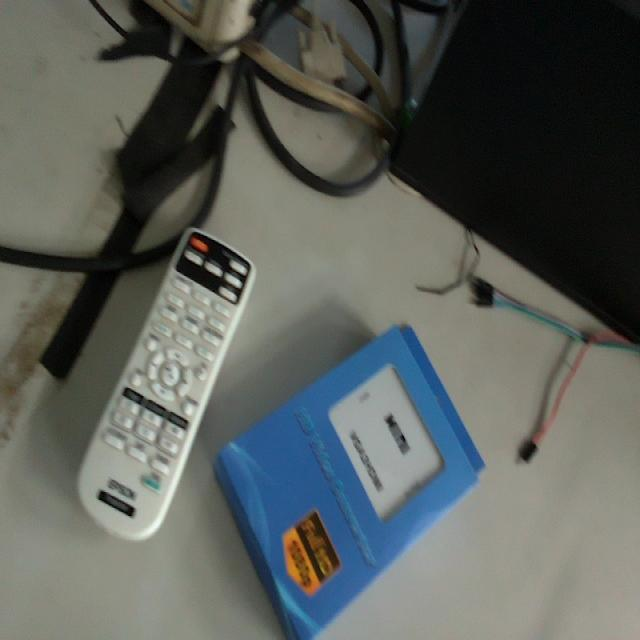remote: (224, 321, 487, 640), (80, 230, 256, 555)
